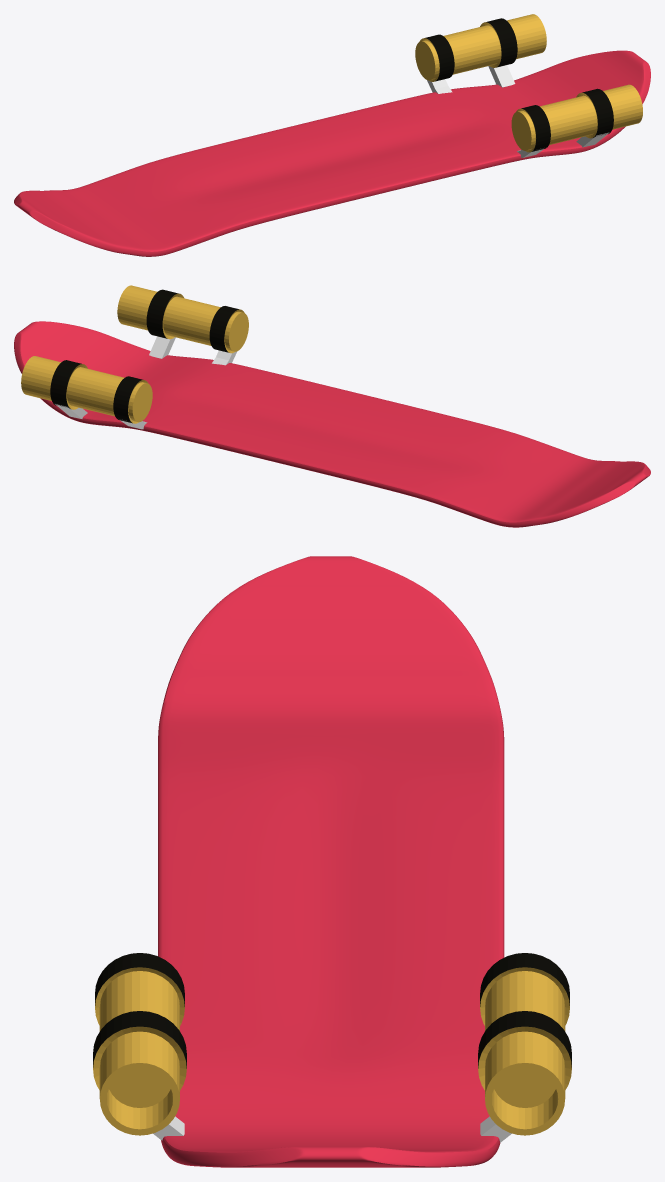
Rendered from SkateBoardv2.fbx.
3 renders of one model, top to bottom at view 1: azimuth 30°, elevation 25°; view 2: azimuth 150°, elevation 25°; view 3: azimuth 270°, elevation 25°, orthographic. The views are drawn at different scales.
Visible parts, largest first — view 1: Plane, Cylinder.001, Cylinder, Cube.002; view 2: Plane, Cylinder, Cylinder.001, Cube; view 3: Plane, Cylinder, Cylinder.001.
Boxes of the visible parts, x1=… form: Plane: x1=14, y1=50, x2=650, y2=256; Cylinder.001: x1=415, y1=14, x2=546, y2=81; Cylinder: x1=511, y1=84, x2=642, y2=152; Cube.002: x1=488, y1=65, x2=515, y2=87; Plane: x1=14, y1=321, x2=650, y2=527; Cylinder: x1=117, y1=285, x2=248, y2=353; Cylinder.001: x1=21, y1=356, x2=152, y2=423; Cube: x1=149, y1=336, x2=175, y2=358; Plane: x1=158, y1=556, x2=504, y2=1167; Cylinder: x1=93, y1=953, x2=186, y2=1135; Cylinder.001: x1=478, y1=953, x2=571, y2=1135.
Bounding box in the file's own units: 493 × 48.51 × 166.
